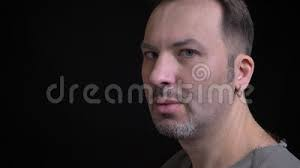white_male: (142, 26, 227, 131)
